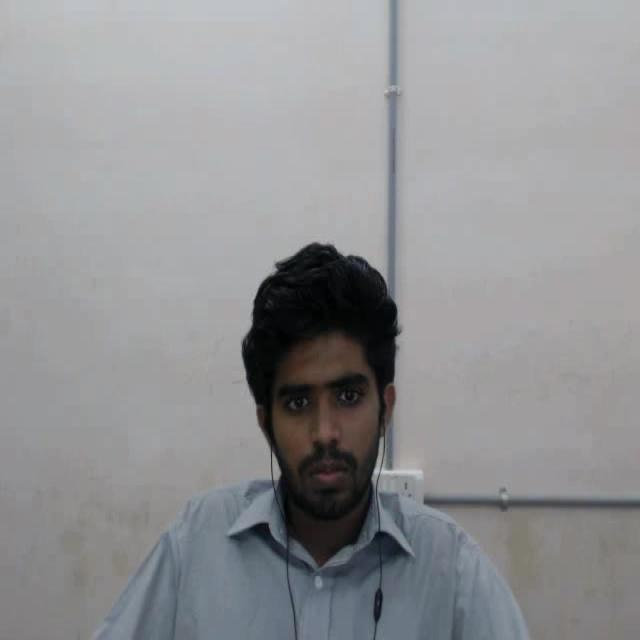Engaged: (209, 211, 429, 561)
